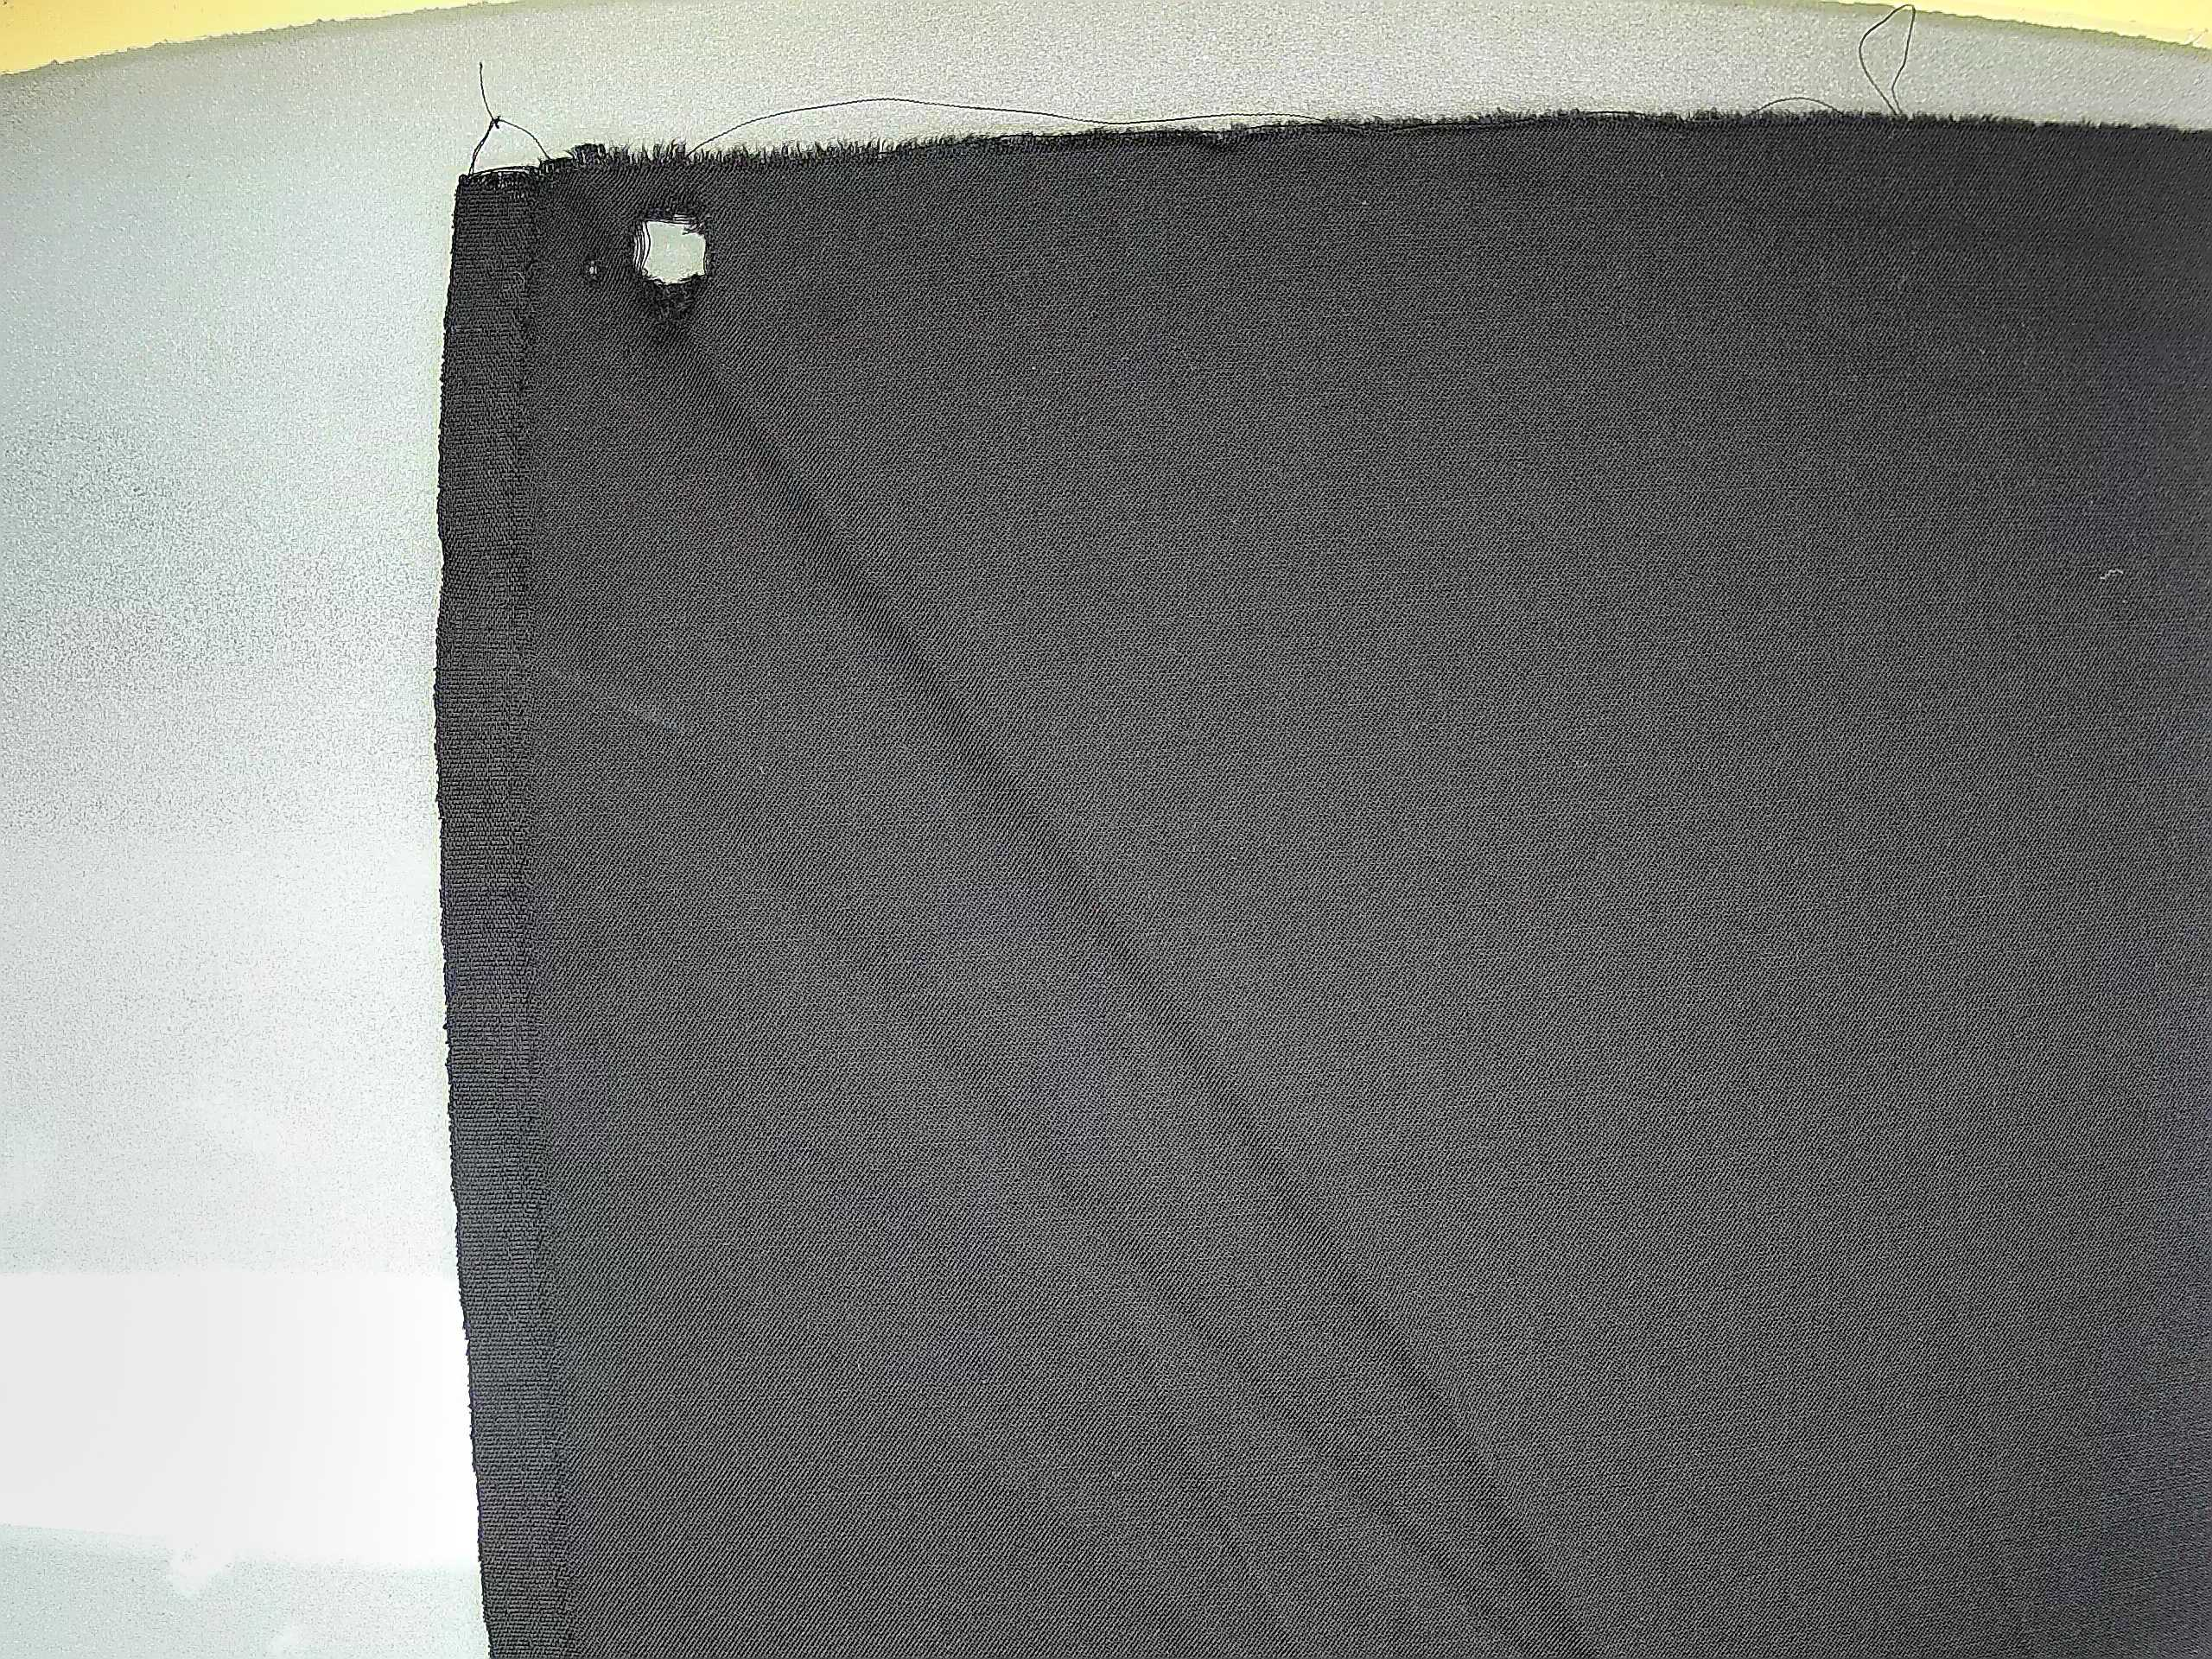rubbing-hole: (568, 186, 733, 331)
